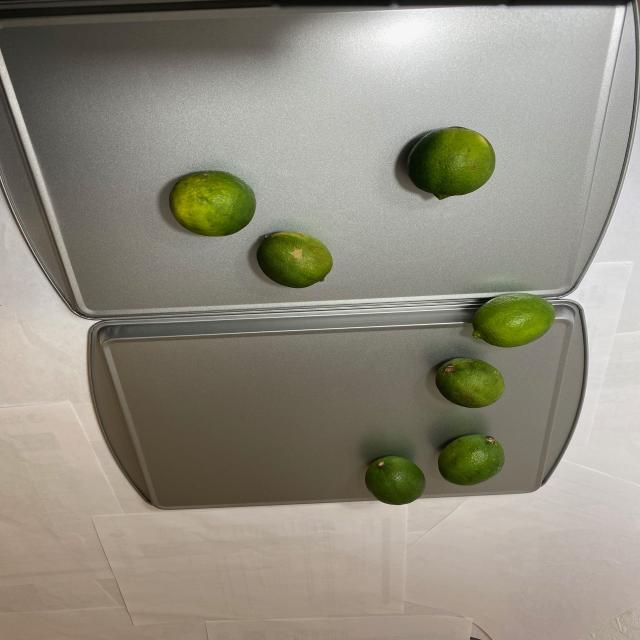lemon: (366, 289, 558, 511), (157, 170, 336, 292), (399, 119, 496, 205)
